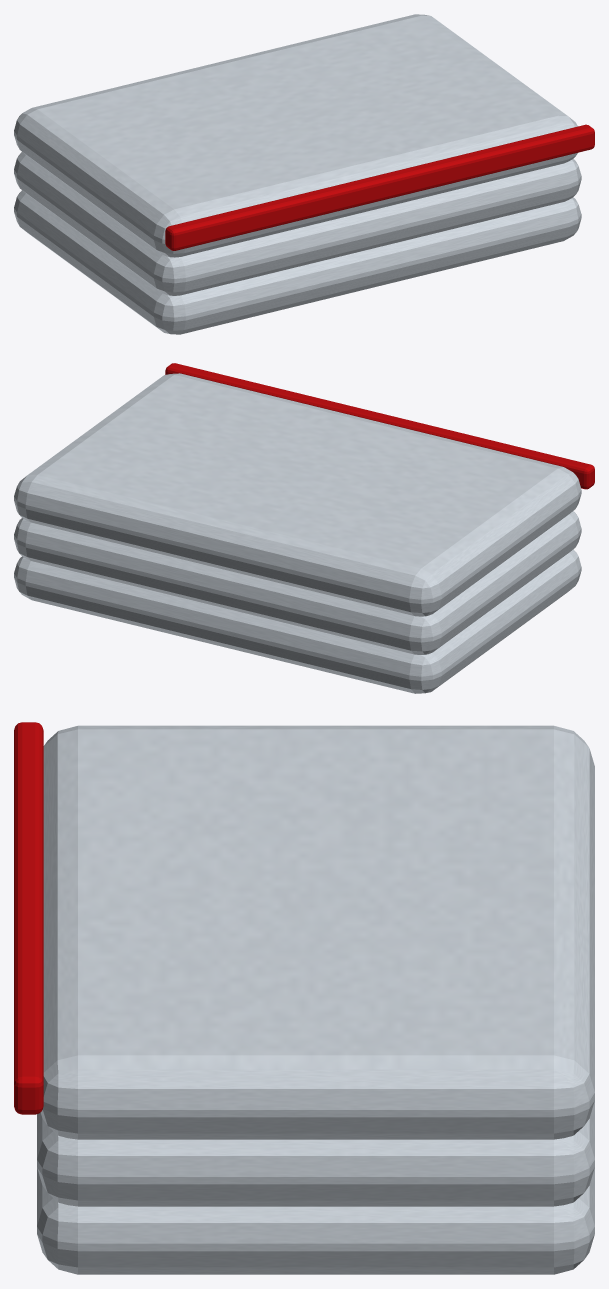
File: toalla.obj
The picture shows the model from 3 angles, top to bottom: view 1: azimuth 30°, elevation 25°; view 2: azimuth 150°, elevation 25°; view 3: azimuth 270°, elevation 25°; orthographic projection. The views are drawn at different scales.
Visible parts, largest first — view 1: Toalla_Capa_3, Toalla_Capa_1, Toalla_Capa_2, Toalla_Borde; view 2: Toalla_Capa_3, Toalla_Capa_1, Toalla_Capa_2, Toalla_Borde; view 3: Toalla_Capa_3, Toalla_Capa_1, Toalla_Capa_2, Toalla_Borde.
Part boxes in pixels (box(x1,y1,x2,y2)): Toalla_Capa_3: box(14, 14, 577, 257); Toalla_Capa_1: box(14, 190, 581, 334); Toalla_Capa_2: box(14, 152, 581, 295); Toalla_Borde: box(165, 124, 594, 250); Toalla_Capa_3: box(14, 373, 581, 616); Toalla_Capa_1: box(14, 549, 581, 693); Toalla_Capa_2: box(14, 511, 581, 654); Toalla_Borde: box(165, 363, 594, 489); Toalla_Capa_3: box(40, 725, 594, 1139); Toalla_Capa_1: box(37, 1168, 594, 1274); Toalla_Capa_2: box(37, 1101, 594, 1206); Toalla_Borde: box(14, 722, 43, 1114).
Size of the model in its own units: 0.52 by 0.145 by 0.354.
Materials: 2 (1 with a texture image).
